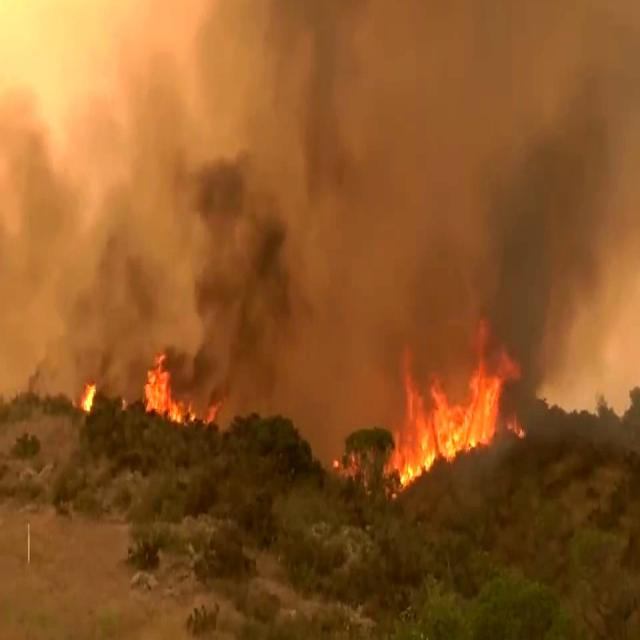fire: (397, 338, 522, 472), (137, 362, 198, 444)
smoke: (200, 0, 305, 375)
